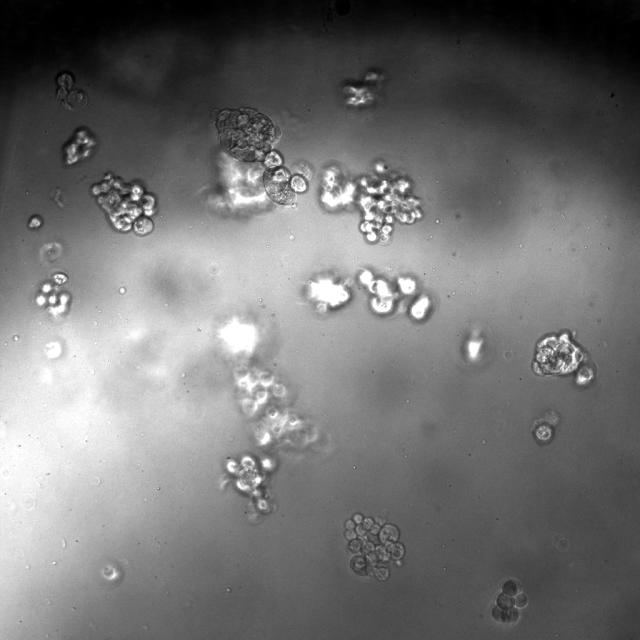organoid: (219, 319, 321, 517), (318, 158, 422, 244), (216, 108, 308, 205), (200, 150, 274, 216), (357, 269, 434, 323), (344, 513, 405, 581), (91, 173, 156, 235), (531, 331, 596, 386), (304, 272, 351, 313), (341, 68, 384, 110), (491, 578, 528, 624), (36, 272, 71, 316), (63, 127, 97, 165), (56, 71, 88, 110), (532, 411, 560, 445), (292, 161, 312, 181), (27, 214, 43, 230)
